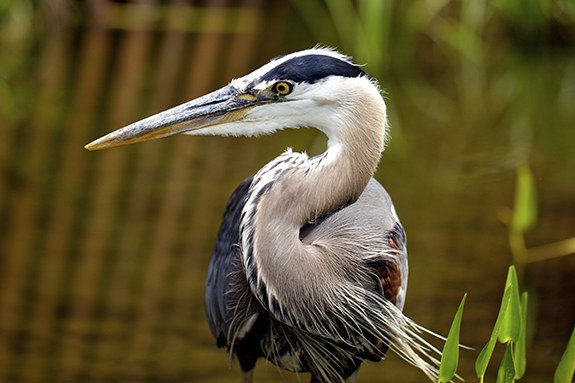heron: (79, 40, 437, 381)
